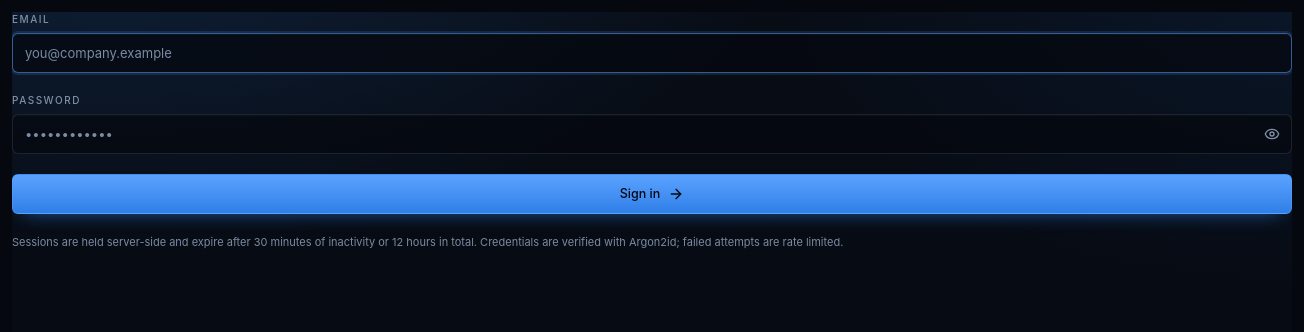
Test case: LoginForm › explains a rate limit with the retry window
The width and height of the screenshot is (1304, 332).
Type "amina@touche.example" into the field labelled "Email". click: (652, 53)
box: top-left (12, 33), bottom-right (1292, 73)
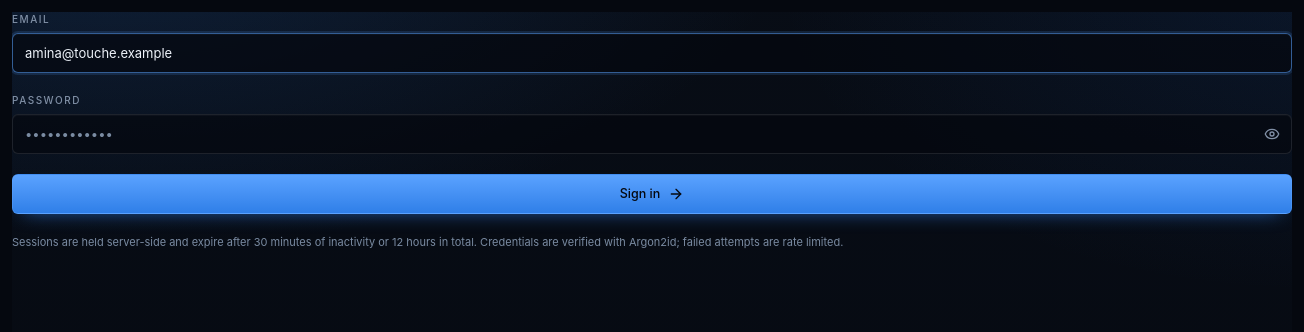
Type "wrong" into the password field labelled "Password". click: (652, 134)
box: top-left (12, 114), bottom-right (1292, 154)
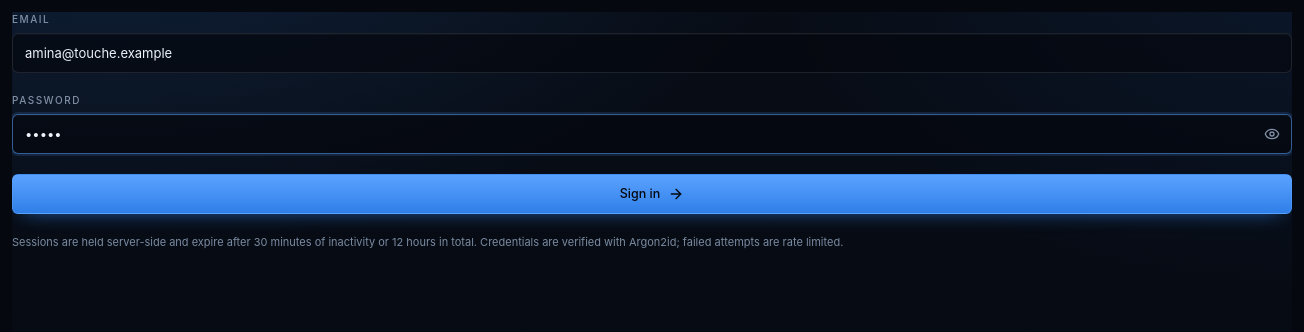
Click the button "Sign in". click: (652, 194)
box: top-left (12, 174), bottom-right (1292, 214)
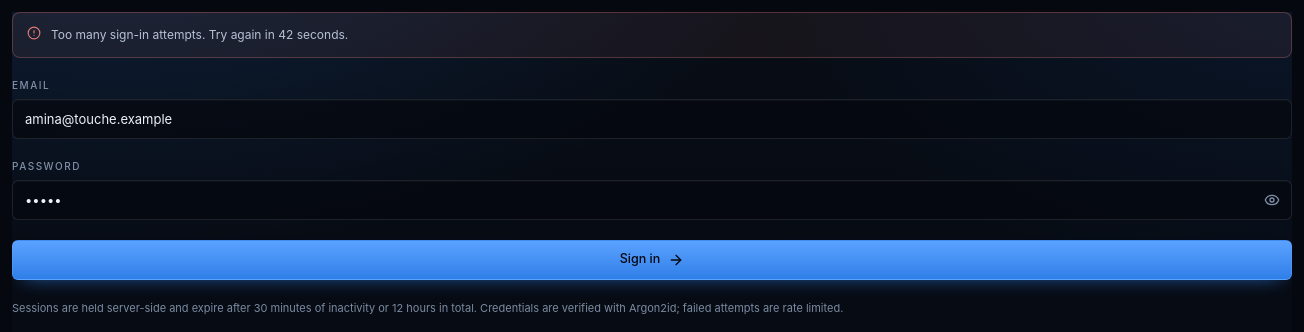
Now the message reads "Too many sign-in attempts. Try again in 42 seconds.", box top-left (51, 27), bottom-right (348, 42)
